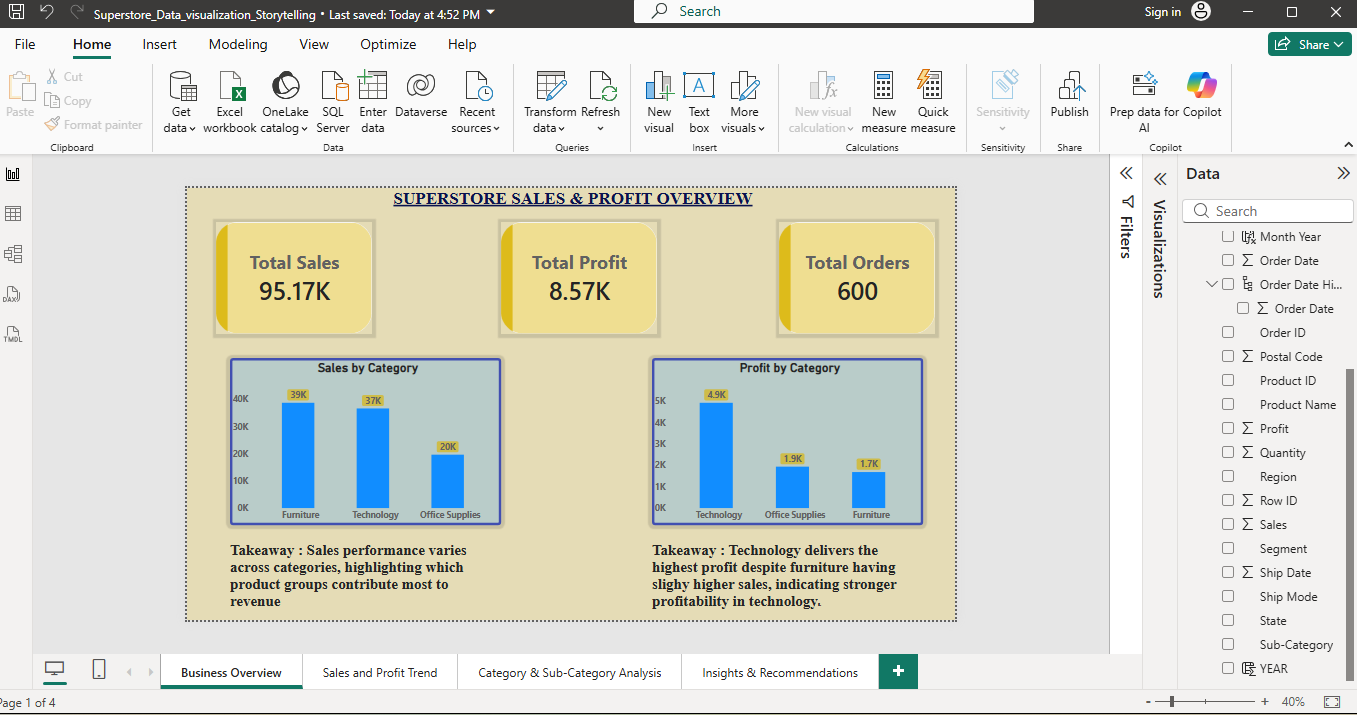

Layout of this report page (visuals, bound fields, positions):
{"tool":"powerbi","page":{"name":"Business Overview","canvas":[1920,1080],"ordinal":0},"visuals":[{"type":"textbox","box":[10.1,0,1909.9,279.7],"z":0},{"type":"cardVisual","fields":{"Data":["Sum(Superstore Data.Sales)"]},"box":[73.4,84.2,390.6,279.7],"z":1000},{"type":"cardVisual","fields":{"Data":["Count(Superstore Data.Order ID)"]},"box":[1479.6,84.2,390.6,279.7],"z":2000},{"type":"cardVisual","fields":{"Data":["Sum(Superstore Data.Profit)"]},"box":[786.2,84.2,390.6,279.7],"z":3000},{"type":"clusteredColumnChart","title":"Sales by Category","fields":{"Category":["Superstore Data.Category"],"Y":["Sum(Superstore Data.Sales)"]},"box":[108,425.5,677.8,418.3],"z":4000},{"type":"clusteredColumnChart","title":"Profit by Category","fields":{"Category":["Superstore Data.Category"],"Y":["Sum(Superstore Data.Profit)"]},"box":[1162.1,425.5,677.8,418.3],"z":4001},{"type":"textbox","box":[108,881.3,678.2,198.7],"z":4002},{"type":"textbox","box":[1162.1,881.3,678.2,198.7],"z":4003}]}

Visuals, with their boxes on the page's 1920x1080 design canvas (x1, y1, x2, y2). These are canvas units, not pixel positions in the 1357x715 screenshot, which may show the page scaled, cropped or inside an application window:
textbox: region(10, 0, 1920, 280)
cardVisual - Sum(Superstore Data.Sales): region(73, 84, 464, 364)
cardVisual - Count(Superstore Data.Order ID): region(1480, 84, 1870, 364)
cardVisual - Sum(Superstore Data.Profit): region(786, 84, 1177, 364)
"Sales by Category" clusteredColumnChart: region(108, 426, 786, 844)
"Profit by Category" clusteredColumnChart: region(1162, 426, 1840, 844)
textbox: region(108, 881, 786, 1080)
textbox: region(1162, 881, 1840, 1080)
